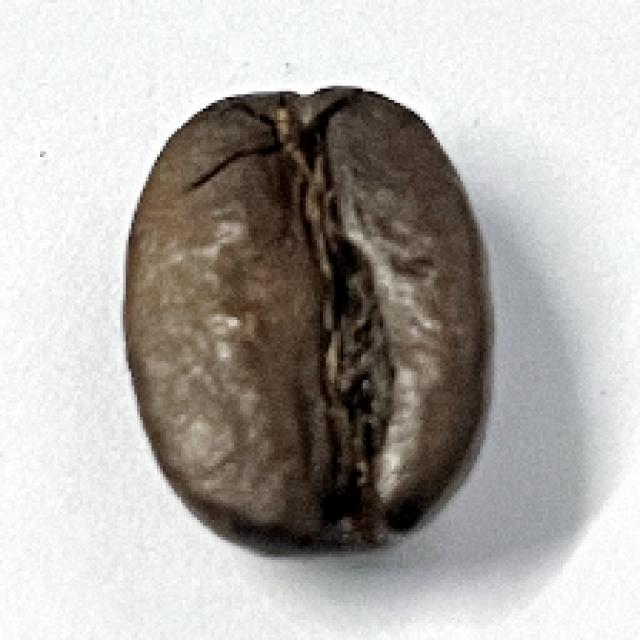bean: (115, 85, 498, 557)
